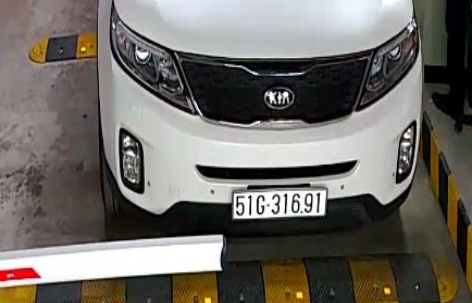plate: (228, 184, 330, 220)
